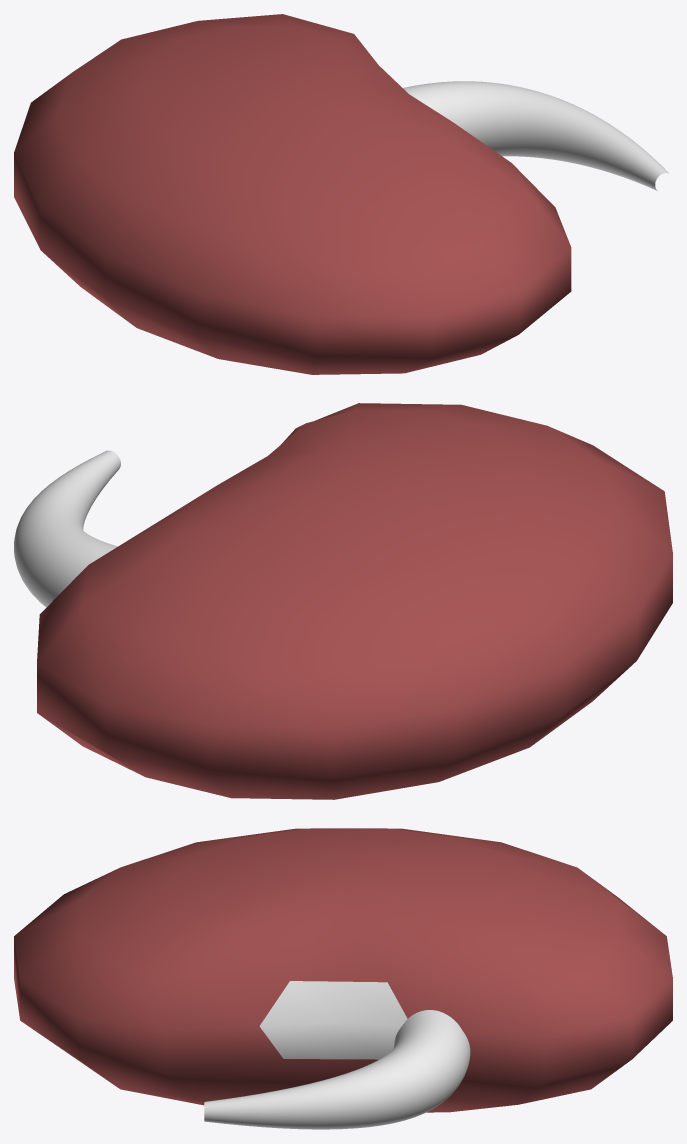
Rendered from Frijol_1.glb.
3 renders of one model, top to bottom at view 1: azimuth 30°, elevation 25°; view 2: azimuth 150°, elevation 25°; view 3: azimuth 270°, elevation 25°, orthographic. The views are drawn at different scales.
Parts seen in each view (by area): view 1: Frijol_etapa_2, raiz_etapa_2; view 2: Frijol_etapa_2, raiz_etapa_2; view 3: Frijol_etapa_2, raiz_etapa_2.
Part boxes in pixels (left/top/right/bottom): Frijol_etapa_2: left=14, top=14, right=571, bottom=374; raiz_etapa_2: left=403, top=81, right=669, bottom=190; Frijol_etapa_2: left=37, top=403, right=672, bottom=799; raiz_etapa_2: left=14, top=450, right=120, bottom=607; Frijol_etapa_2: left=14, top=828, right=672, bottom=1112; raiz_etapa_2: left=204, top=1010, right=470, bottom=1129.
Size of the model in its own units: 0.4393 by 0.1818 by 0.5004.
